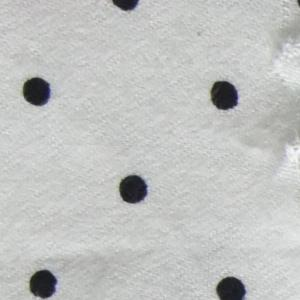Damage: (269, 1, 300, 164)
